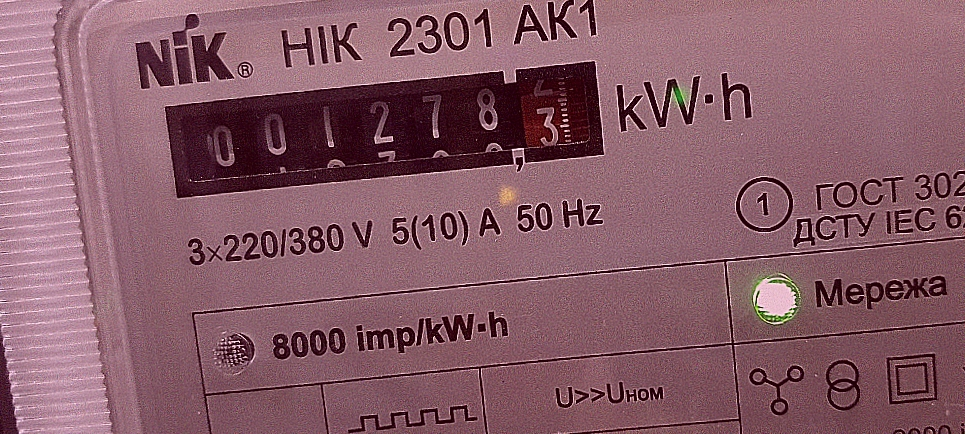0: (210, 120, 238, 169), (261, 110, 288, 157)
1: (318, 101, 338, 149)
2: (367, 98, 395, 146), (530, 77, 555, 97)
3: (533, 103, 561, 148)
7: (420, 92, 444, 139)
8: (475, 86, 500, 131)
screen: (149, 48, 622, 210)
